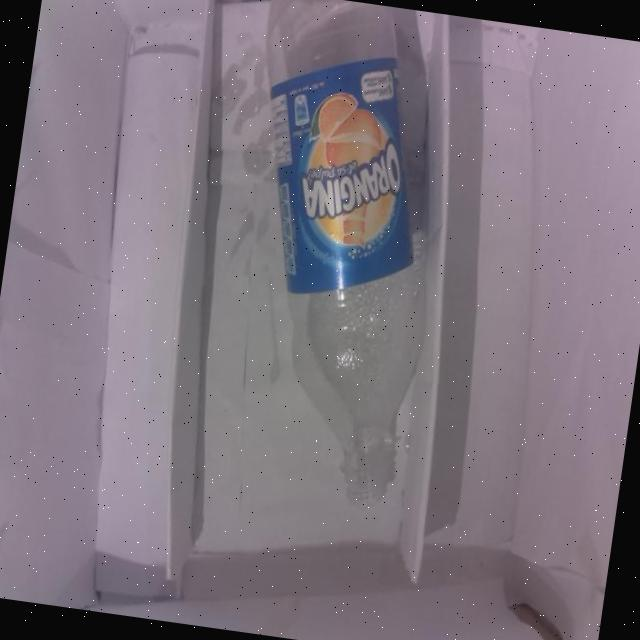bottle: (193, 0, 482, 523)
label: (241, 67, 446, 294)
